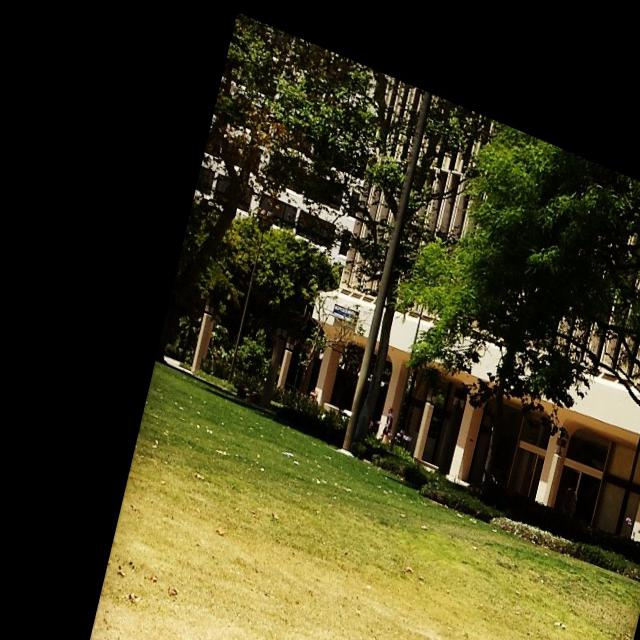patch: (181, 497, 332, 633), (380, 577, 467, 640)
